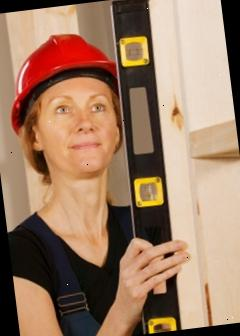helmet: (0, 27, 125, 138)
no_wear: (5, 202, 149, 336)
